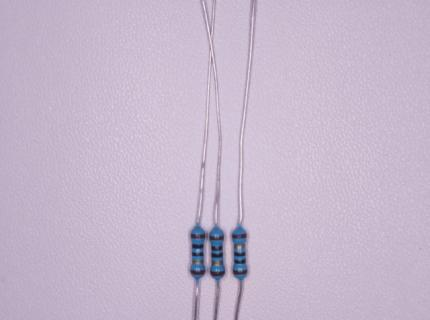Black band: (211, 245, 223, 251), (234, 259, 246, 264), (191, 252, 203, 256), (192, 244, 203, 248), (212, 253, 223, 257), (234, 252, 245, 256)
Brown band: (233, 269, 247, 275), (209, 235, 224, 240), (190, 270, 205, 275), (211, 271, 225, 276), (191, 234, 205, 239), (232, 234, 246, 238)
Gold band: (211, 260, 223, 265), (192, 260, 202, 264), (234, 244, 244, 248)
